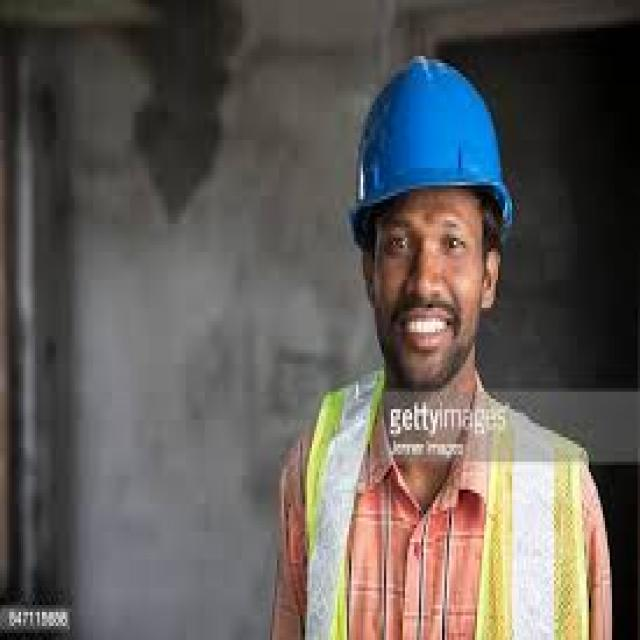Reflective-Jacket: (286, 374, 622, 637)
Safety-Helmet: (335, 49, 524, 238)
